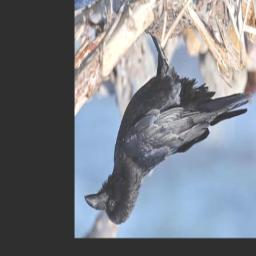Crow: (84, 26, 252, 225)
